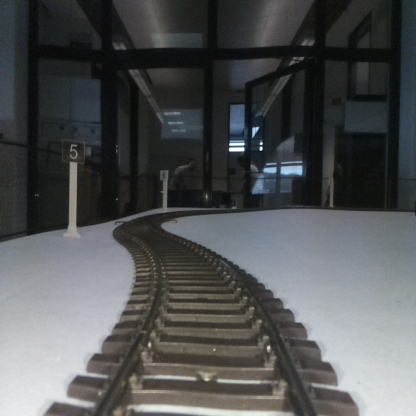black-info-5: (63, 140, 84, 237)
white-info-6: (160, 169, 168, 211)
